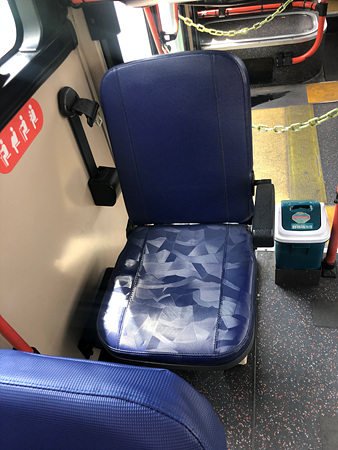seat: (97, 67, 262, 362)
